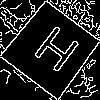H: (26, 24, 82, 82)
